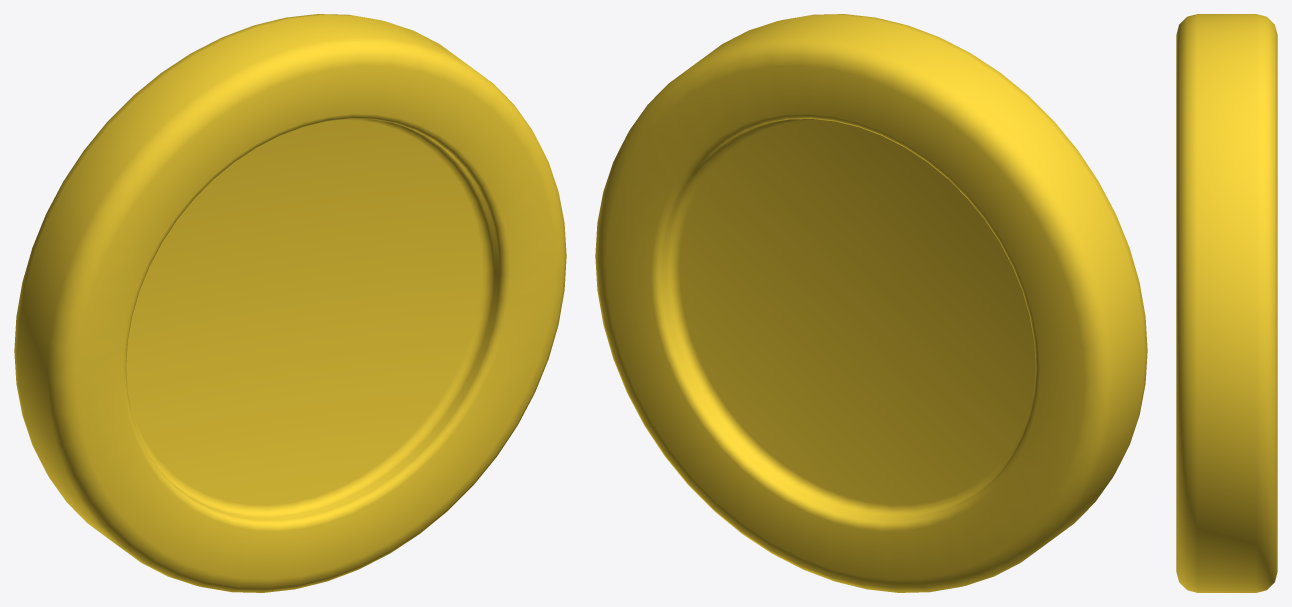
File: Coin.fbx
3 renders of one model, left to right at view 1: azimuth 30°, elevation 25°; view 2: azimuth 150°, elevation 25°; view 3: azimuth 270°, elevation 25°, orthographic. The views are drawn at different scales.
Visible parts, largest first — view 1: Coin; view 2: Coin; view 3: Coin.
Boxes of the visible parts, x1,y1,x2,y2 form: Coin: [14, 14, 566, 592]; Coin: [595, 14, 1147, 592]; Coin: [1176, 14, 1277, 592].
Bounding box in the file's own units: 40 × 39.92 × 7.
